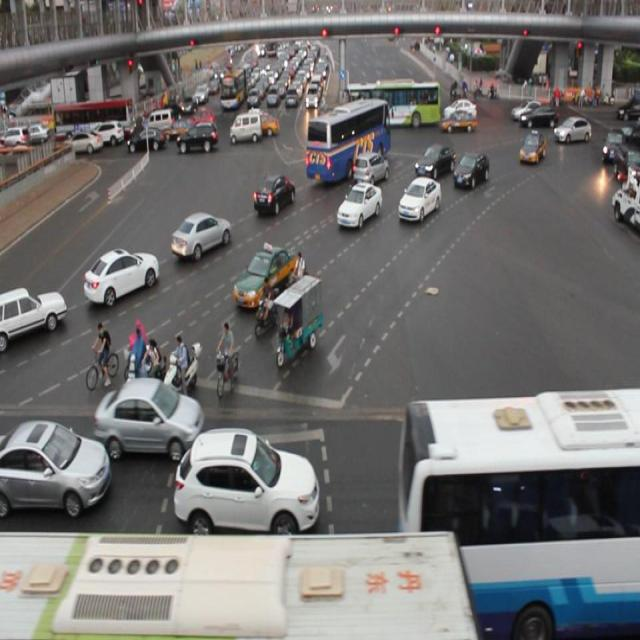car: (172, 426, 319, 533), (441, 424, 558, 538), (0, 419, 110, 516), (95, 377, 204, 462), (1, 280, 69, 351), (84, 245, 160, 305), (234, 246, 299, 306), (171, 209, 231, 262), (336, 182, 382, 229), (398, 179, 440, 220), (253, 175, 296, 211), (453, 150, 490, 190), (414, 145, 455, 180), (352, 150, 390, 185), (552, 112, 590, 143), (517, 130, 544, 165)
van: (400, 378, 640, 640), (0, 522, 478, 640), (307, 101, 391, 179)
